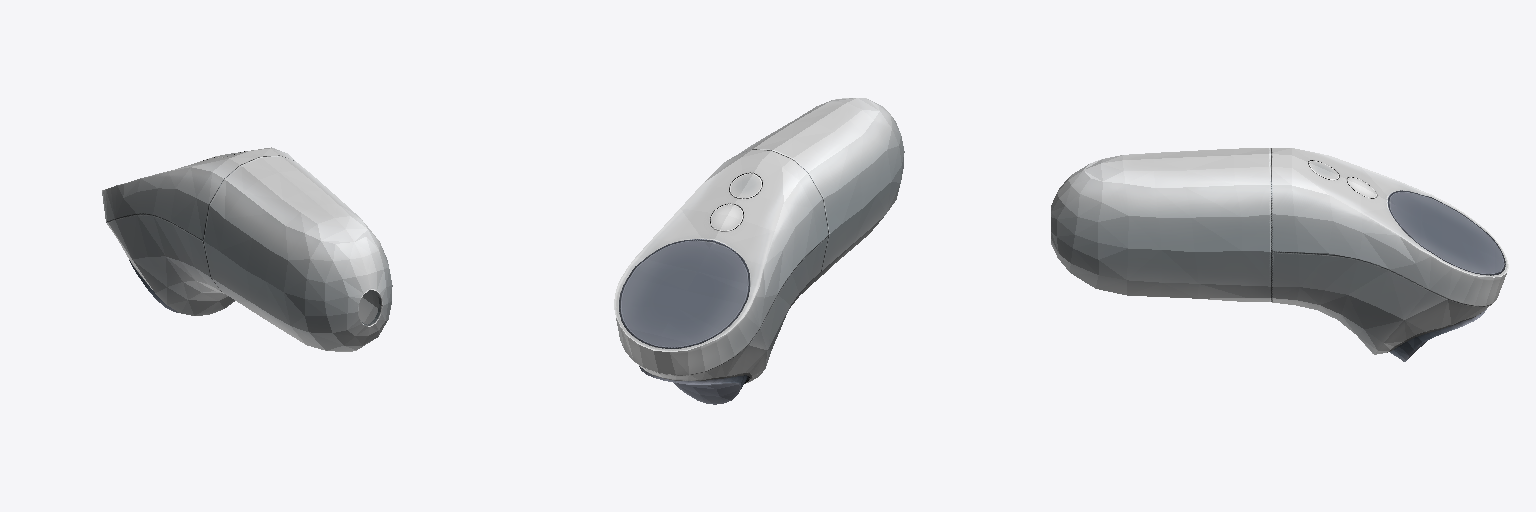
3 renders of one model, left to right at view 1: azimuth 30°, elevation 25°; view 2: azimuth 150°, elevation 25°; view 3: azimuth 270°, elevation 25°, orthographic.
Parts seen in each view (by area): view 1: controller_model; view 2: controller_model; view 3: controller_model.
Boxes of the visible parts, x1=… form: controller_model: x1=102, y1=147, x2=392, y2=351; controller_model: x1=614, y1=98, x2=904, y2=404; controller_model: x1=1051, y1=148, x2=1508, y2=361.
Bounding box in the file's own units: 2.98 × 4.37 × 8.87.
1 materials, 1 textured.